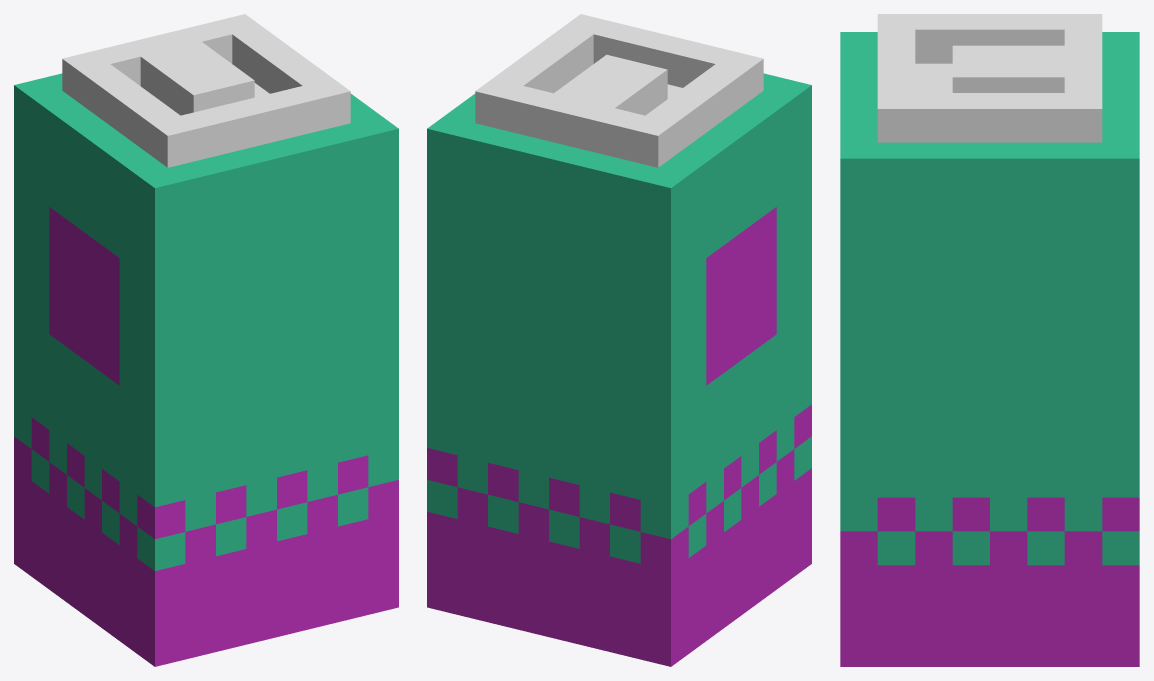
Rendered from Voxel Universe Objects-65.obj.
3 views of the same model, side by side, from view 1: azimuth 30°, elevation 25°; view 2: azimuth 150°, elevation 25°; view 3: azimuth 270°, elevation 25° (orthographic). The views are drawn at different scales.
Size of the model in its own units: 0.8 by 1.6 by 0.8.
Materials: 1 (1 with a texture image).
